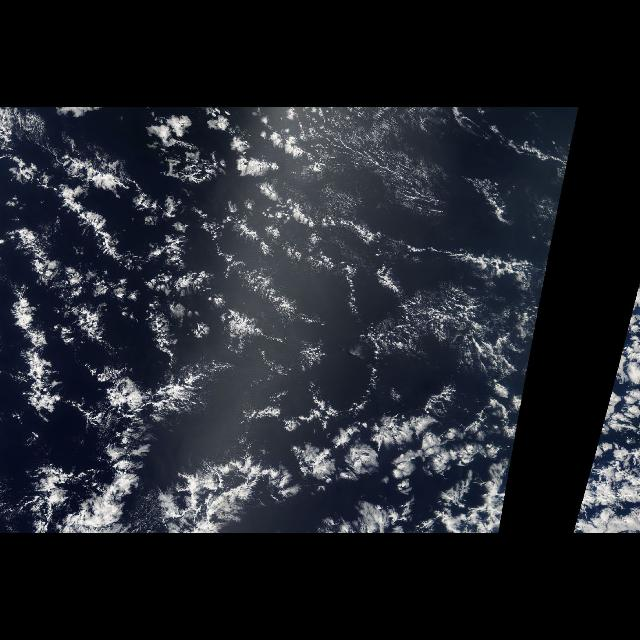Flower: (2, 114, 578, 530), (572, 296, 636, 530)
Gravel: (74, 180, 480, 390)
